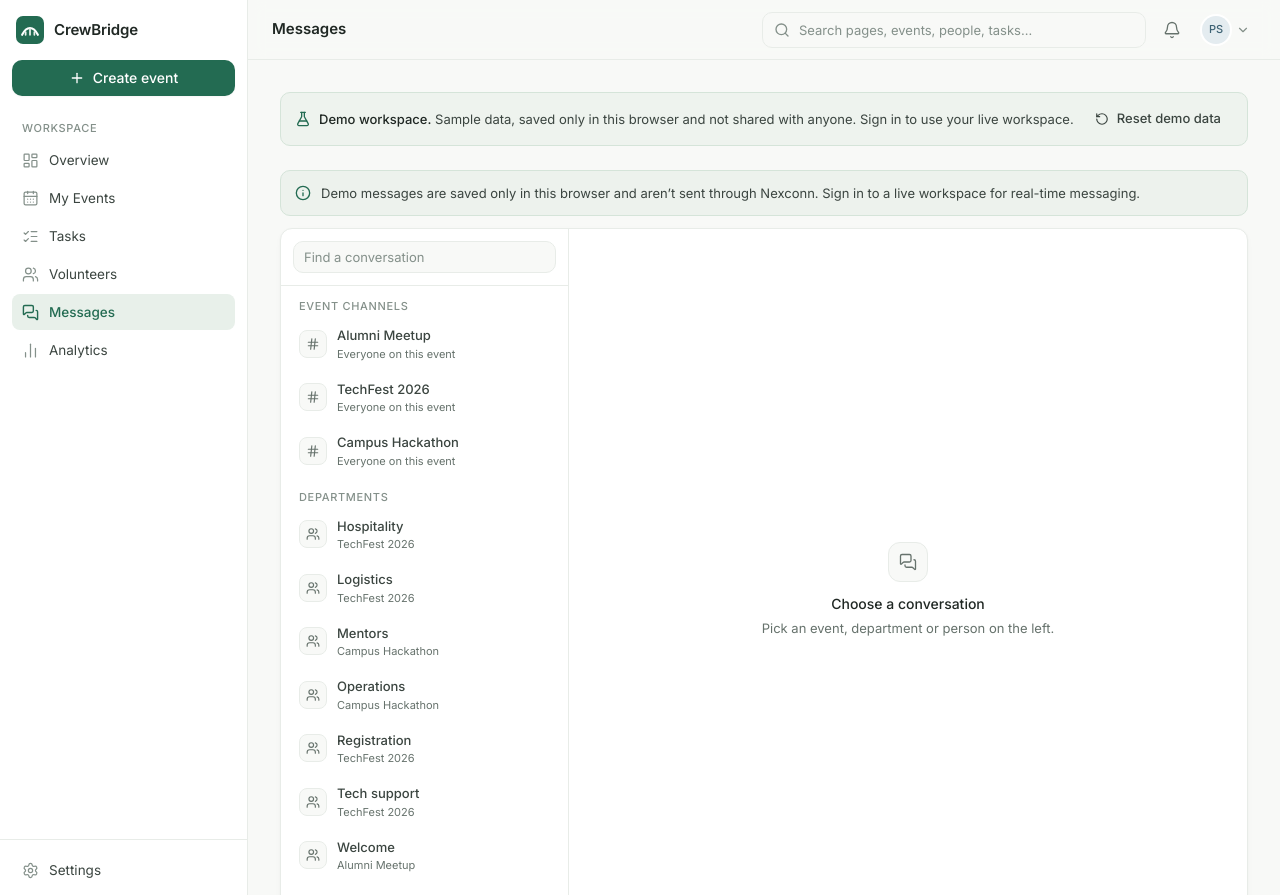
Test case: messages — demo workspace › filters conversations
The image size is (1280, 895).
Type "zzzz" into the search field labelled "Find a conversation" at (424, 257), box [293,241,556,273]
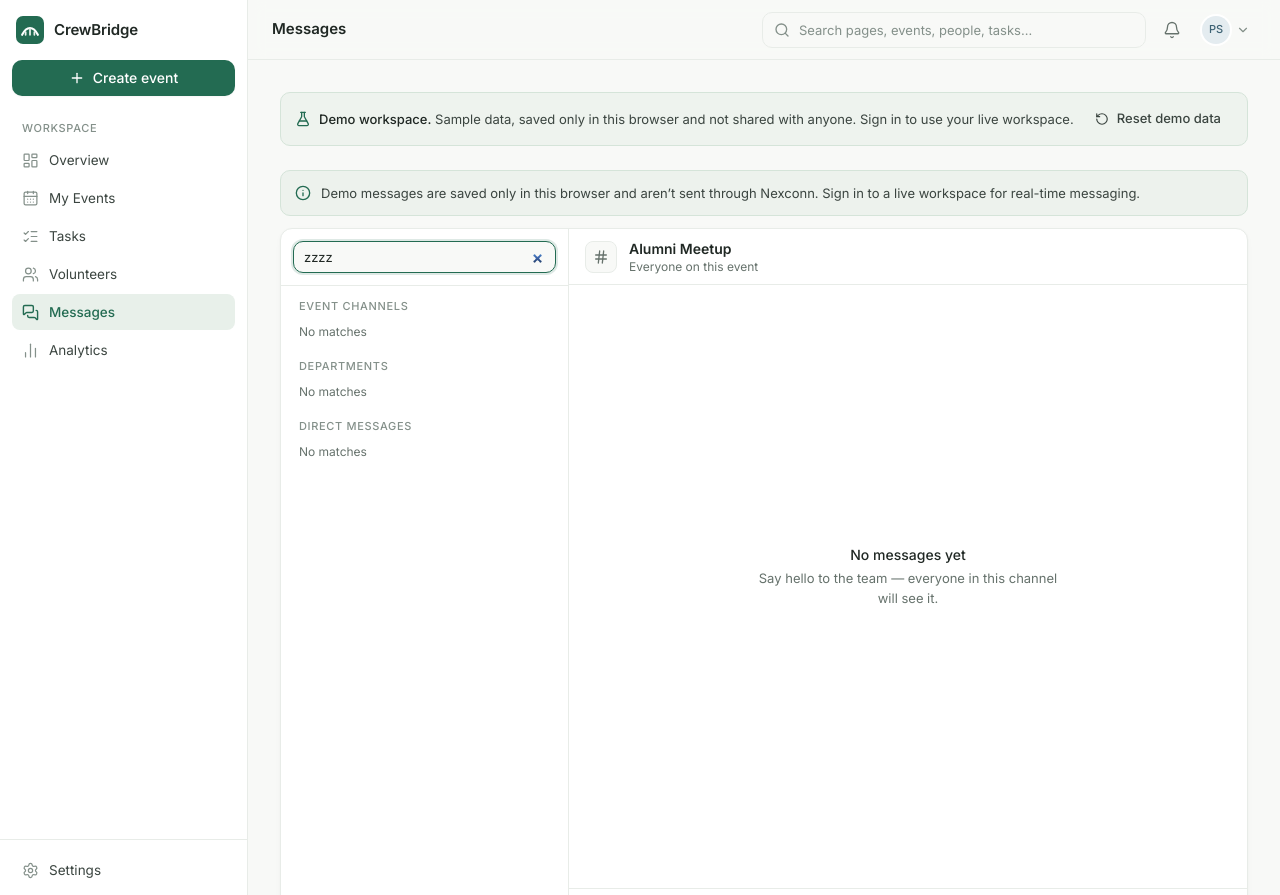
expect the text "No matches" is shown 3 times: met, box [299,324,367,339]; [299,384,367,399]; [299,444,367,459]
